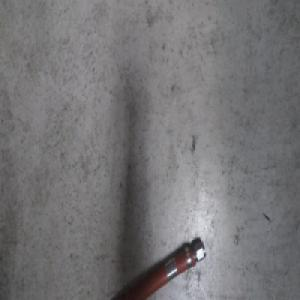Hose: (91, 235, 208, 300)
